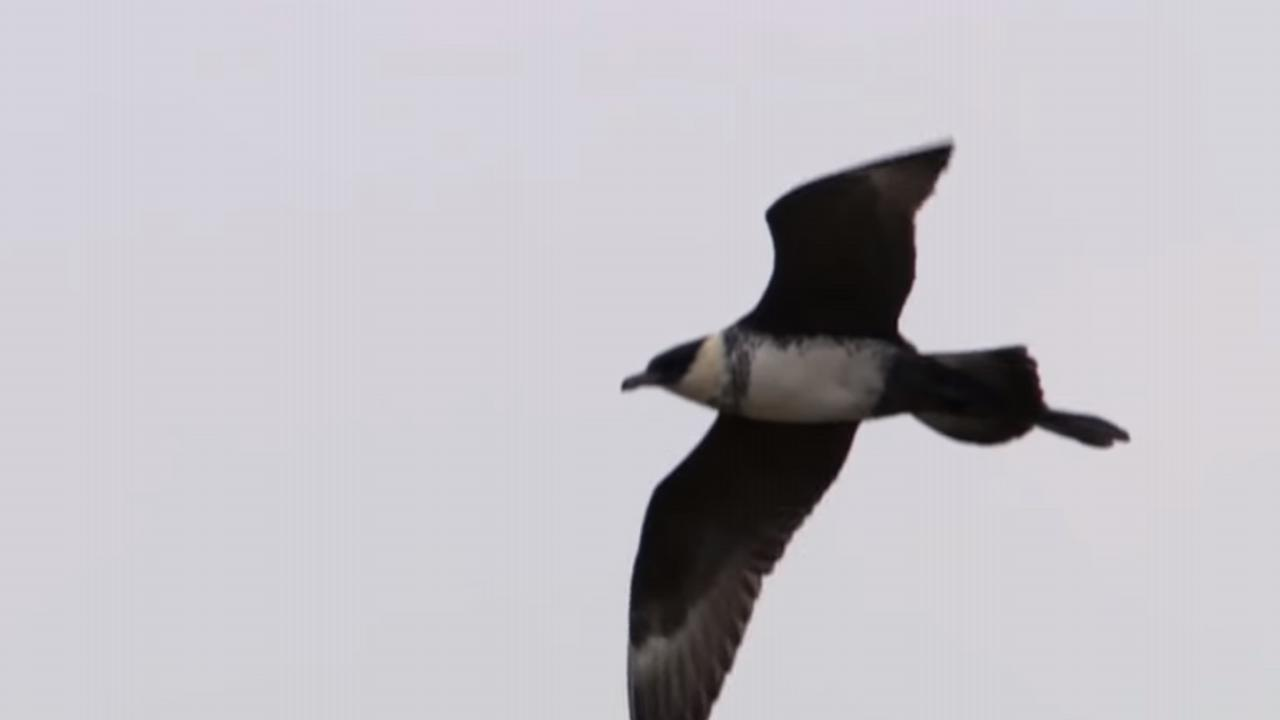Bird: (597, 131, 1138, 720)
